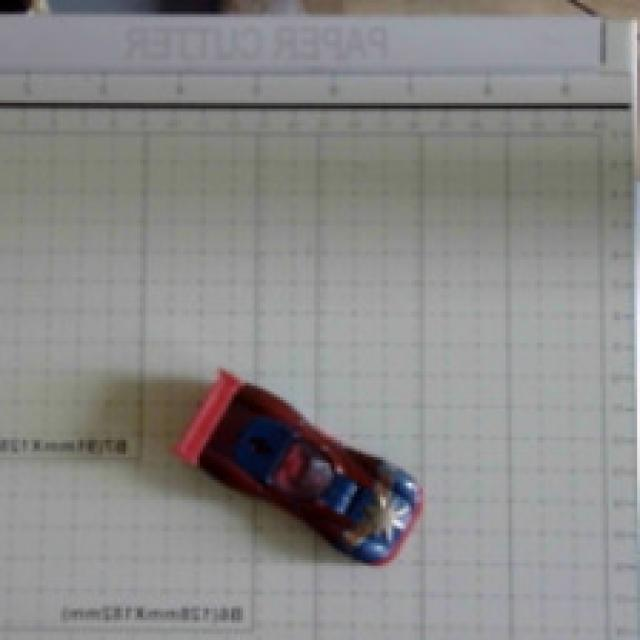Red Car: (153, 318, 466, 601)
